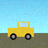vehicle: (8, 22, 34, 40)
